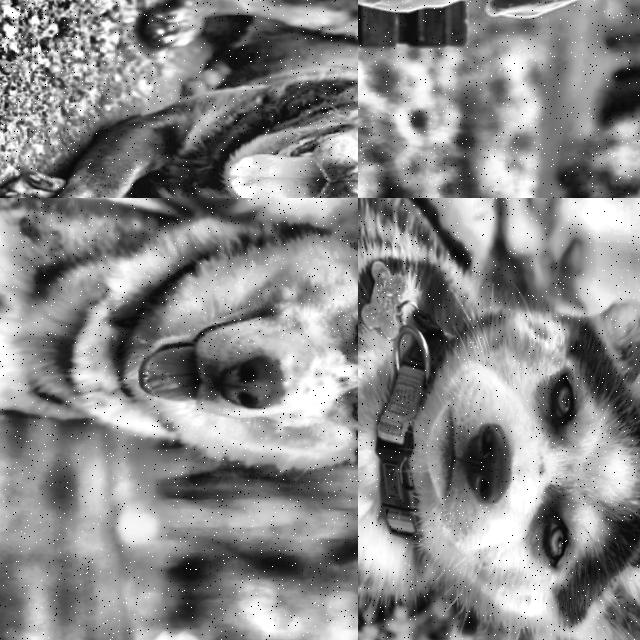beagle: (437, 0, 627, 26)
husky: (369, 251, 640, 640), (64, 198, 358, 501)
rottweiler: (197, 55, 358, 198)
